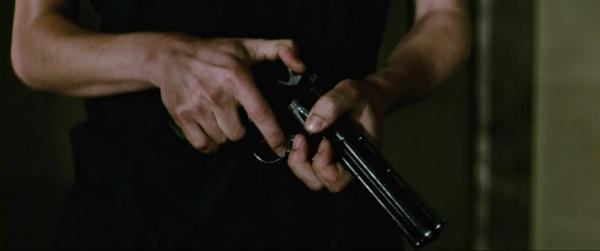Gun: (244, 57, 445, 249)
